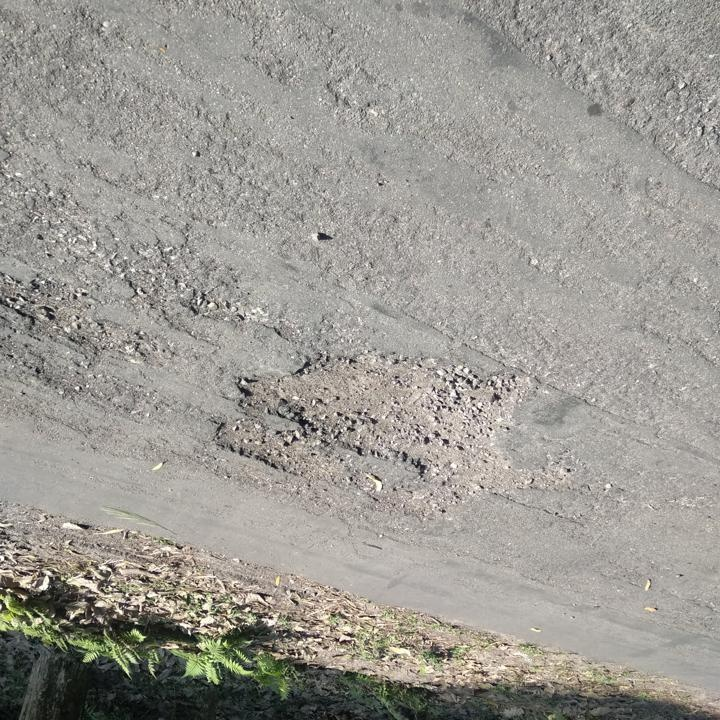pothole: (208, 347, 581, 523)
